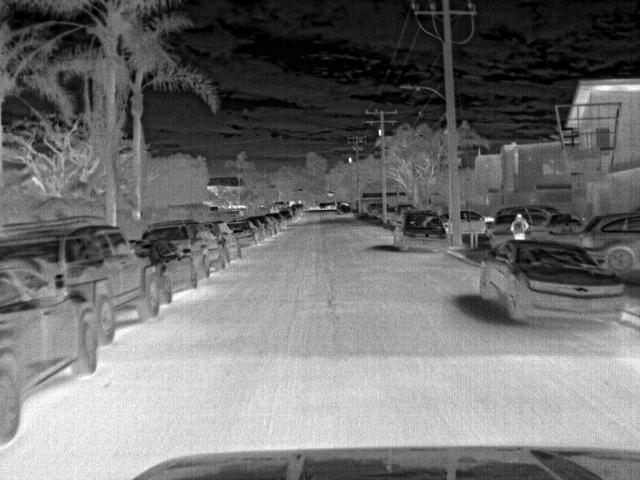car: (3, 216, 163, 343), (1, 261, 103, 446), (479, 237, 630, 327), (572, 210, 640, 281), (124, 239, 198, 302), (144, 219, 225, 270), (141, 223, 208, 282), (395, 211, 449, 255), (544, 212, 583, 244), (484, 212, 518, 248), (224, 220, 259, 248), (471, 209, 490, 236), (252, 215, 276, 236), (270, 212, 287, 230), (276, 209, 293, 224)
person: (511, 212, 531, 241)
